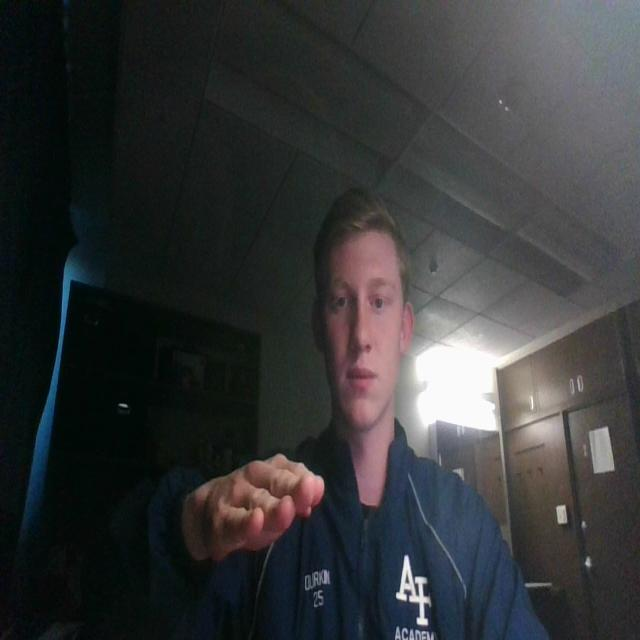paper: (174, 438, 328, 571)
